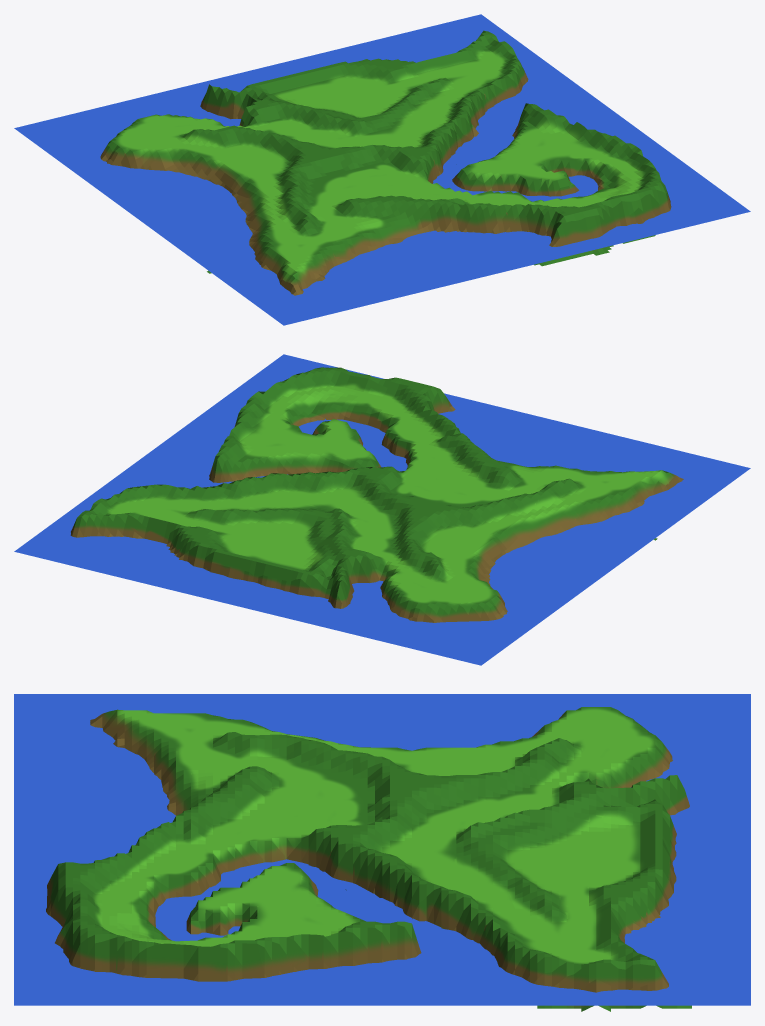
Rendered from map.glb.
The picture shows the model from 3 angles, top to bottom: view 1: azimuth 30°, elevation 25°; view 2: azimuth 150°, elevation 25°; view 3: azimuth 270°, elevation 25°; orthographic projection. The views are drawn at different scales.
Visible parts, largest first — view 1: Plane.001, Plane; view 2: Plane.001, Plane; view 3: Plane.001, Plane.
Boxes of the visible parts, x1=… form: Plane.001: x1=100, y1=30, x2=671, y2=295; Plane: x1=14, y1=14, x2=750, y2=325; Plane.001: x1=70, y1=367, x2=683, y2=622; Plane: x1=14, y1=354, x2=750, y2=665; Plane.001: x1=46, y1=707, x2=691, y2=1011; Plane: x1=14, y1=694, x2=750, y2=1005.
Bounding box in the file's own units: 100 × 10.85 × 100.
Materials: 2 (1 with a texture image).
